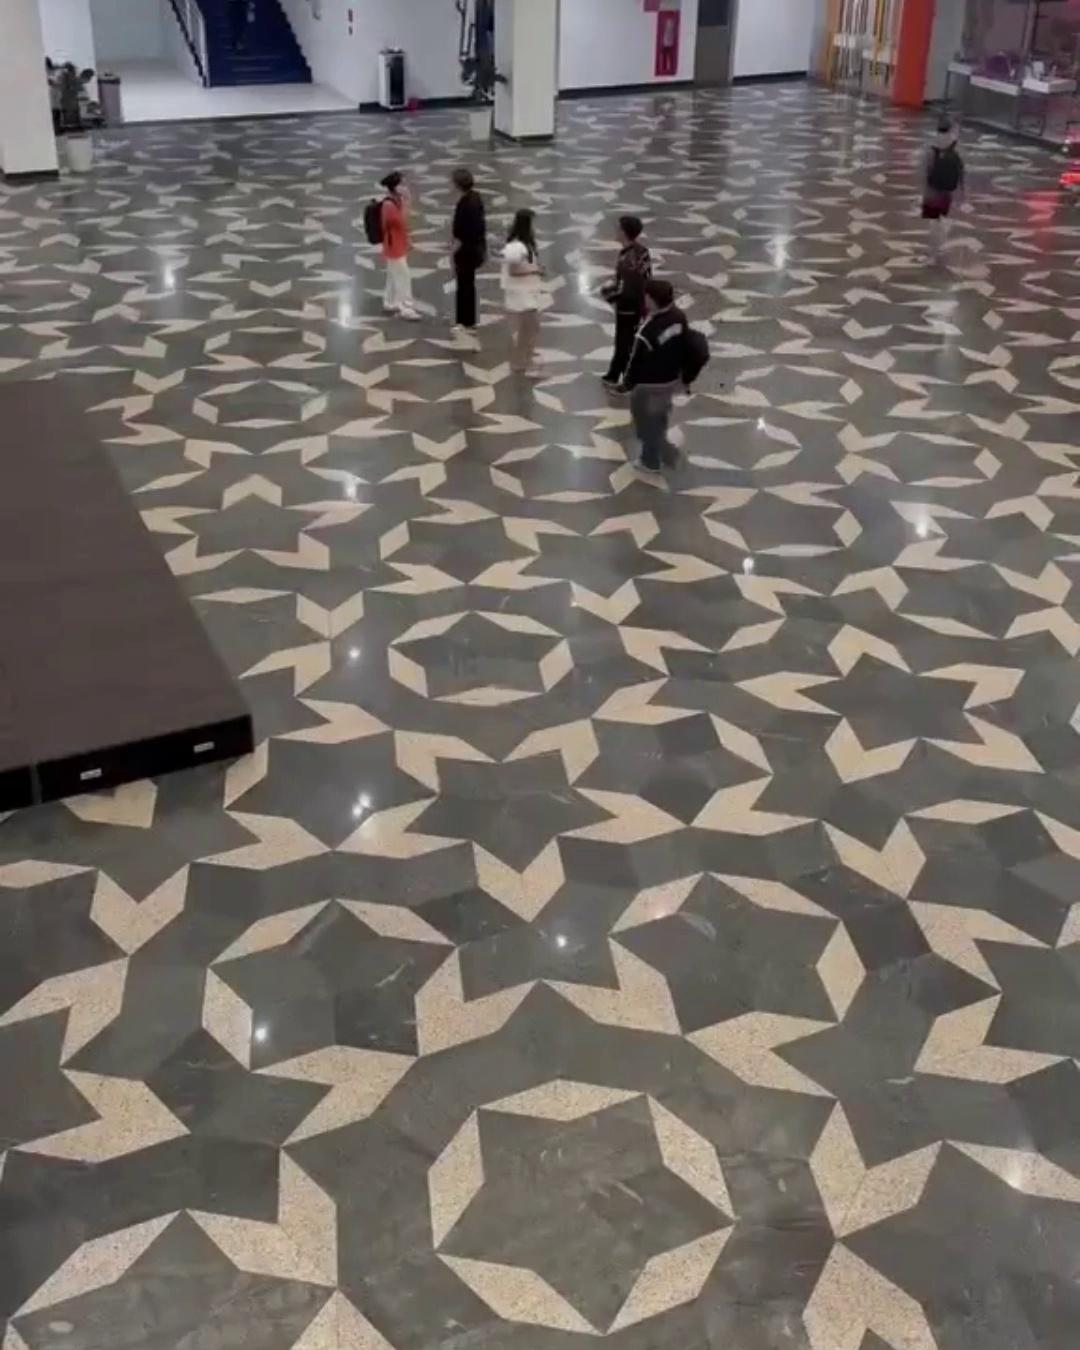your_class: (617, 281, 710, 475), (598, 215, 652, 397), (363, 171, 422, 323), (499, 207, 549, 371), (917, 118, 965, 267), (445, 168, 487, 336)
